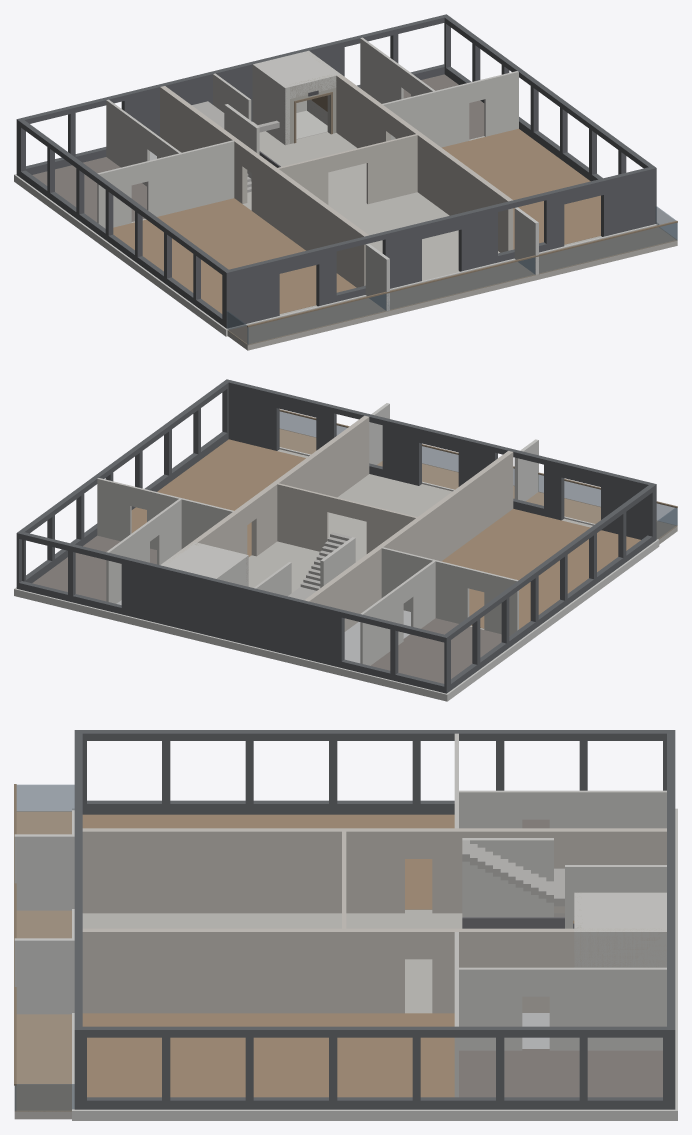
File: condo-floor.skyline-v1.lod0.glb
3 views of the same model, one above another, from view 1: azimuth 30°, elevation 25°; view 2: azimuth 150°, elevation 25°; view 3: azimuth 270°, elevation 25° (orthographic). The views are drawn at different scales.
Parts seen in each view (by area): view 1: condo-floor; view 2: condo-floor; view 3: condo-floor.
Part boxes in pixels (x1,y1,x2,y2): condo-floor: (14, 14, 677, 350); condo-floor: (14, 379, 677, 701); condo-floor: (14, 730, 677, 1120).
Bounding box in the file's own units: 26.2 × 3.92 × 24.32.
